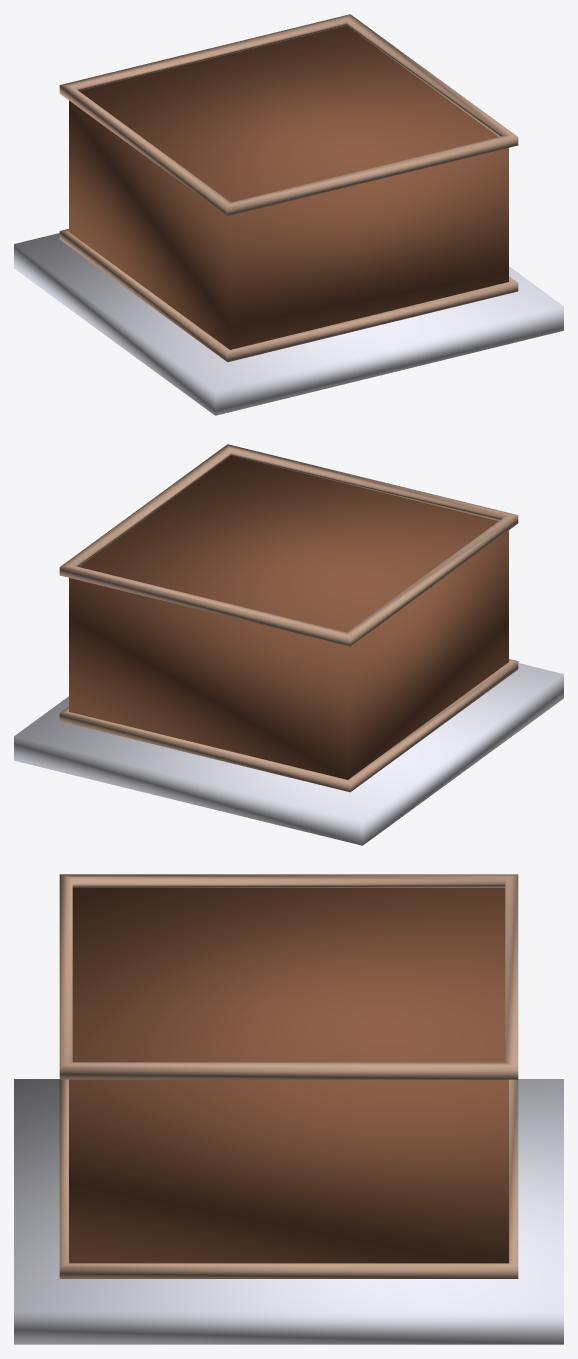
The model's file is square_chocolate.glb.
3 views of the same model, one above another, from view 1: azimuth 30°, elevation 25°; view 2: azimuth 150°, elevation 25°; view 3: azimuth 270°, elevation 25° (orthographic). The views are drawn at different scales.
Parts seen in each view (by area): view 1: CakeBase, IcingStand, IcingRing, IcingRing.001; view 2: CakeBase, IcingStand, IcingRing, IcingRing.001; view 3: CakeBase, IcingStand, IcingRing, IcingRing.001.
Part boxes in pixels (x1,y1,x2,y2): CakeBase: (69, 25, 508, 349); IcingStand: (14, 233, 563, 415); IcingRing: (59, 14, 518, 216); IcingRing.001: (59, 229, 518, 362); CakeBase: (69, 455, 508, 779); IcingStand: (14, 663, 563, 845); IcingRing: (59, 444, 518, 646); IcingRing.001: (59, 659, 518, 792); CakeBase: (69, 888, 508, 1263); IcingStand: (14, 1079, 563, 1344); IcingRing: (59, 874, 518, 1079); IcingRing.001: (59, 1079, 518, 1278).
Size of the model in its own units: 3 by 1.55 by 3.
